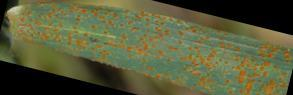Wheat: (57, 10, 129, 45), (131, 24, 191, 65), (194, 39, 241, 82), (244, 49, 284, 93), (13, 14, 52, 36)
